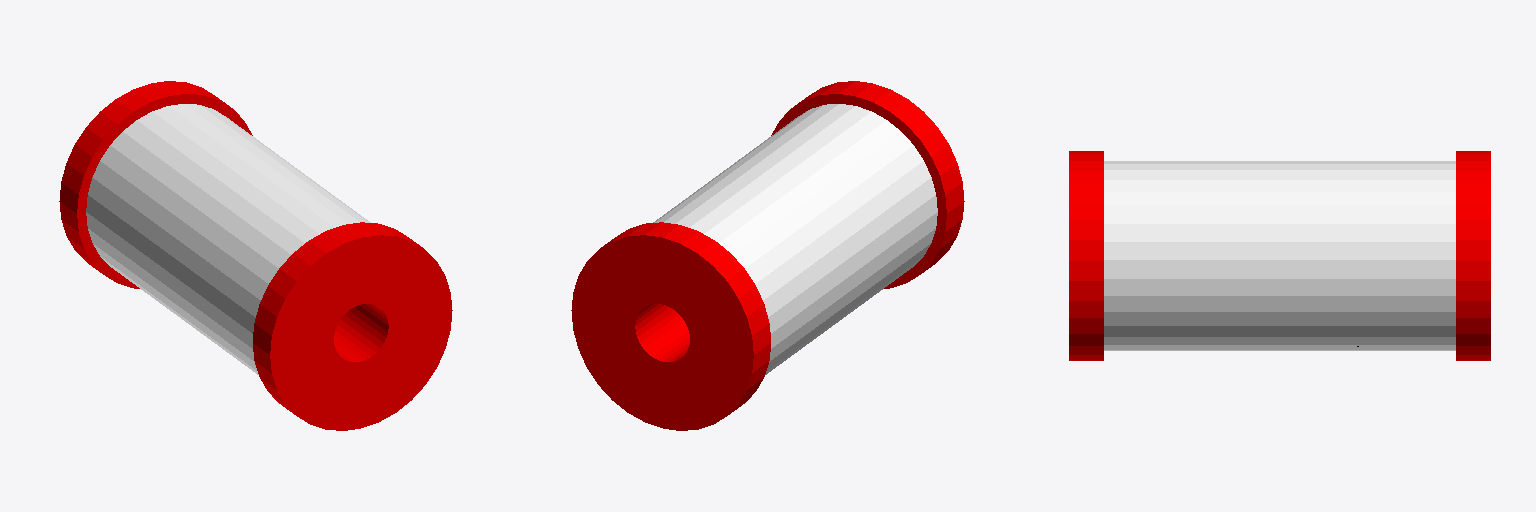
3 views of the same model, side by side, from view 1: azimuth 30°, elevation 25°; view 2: azimuth 150°, elevation 25°; view 3: azimuth 270°, elevation 25° (orthographic).
Visible parts, largest first — view 1: プレイヤー(左腕); view 2: プレイヤー(左腕); view 3: プレイヤー(左腕).
Part boxes in pixels (bbox=[...]): プレイヤー(左腕): bbox=[59, 81, 452, 430]; プレイヤー(左腕): bbox=[571, 81, 964, 430]; プレイヤー(左腕): bbox=[1069, 151, 1490, 360].
Size of the model in its own units: 1.5 by 1.5 by 3.
Materials: 1 (1 with a texture image).